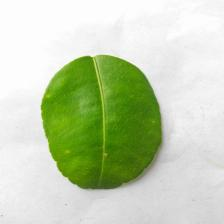greening: (37, 51, 168, 195)
